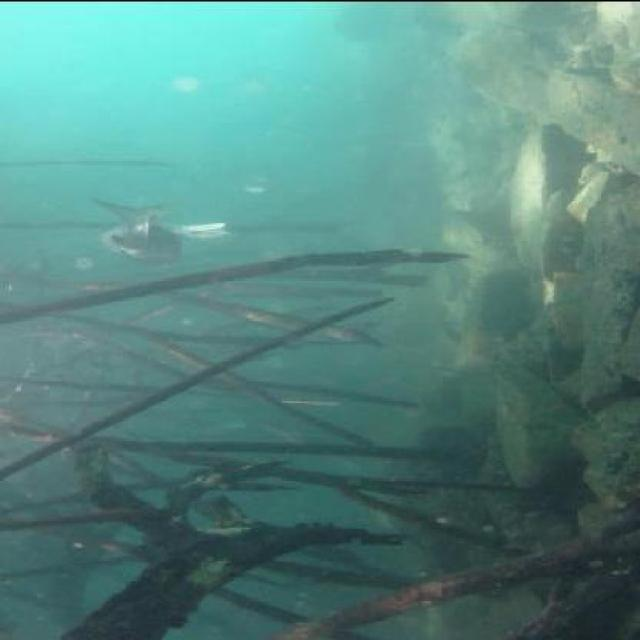Caranx_sexfasciatus_juvenile: (104, 206, 188, 266), (92, 194, 176, 246), (173, 212, 244, 246)
